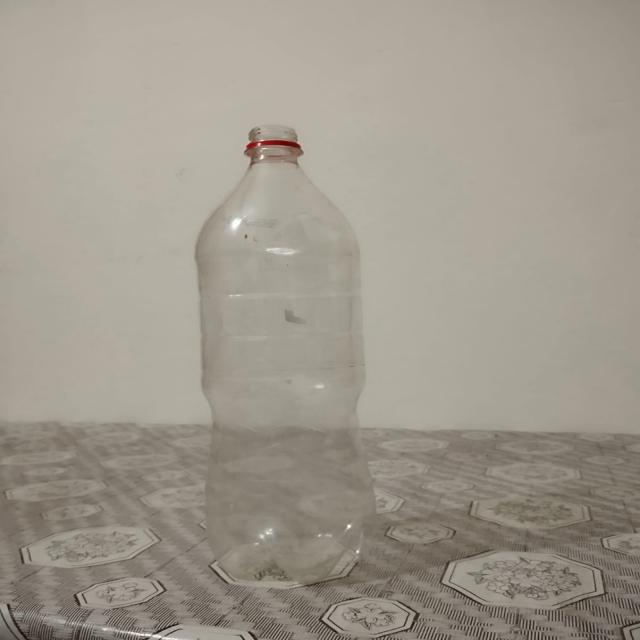bottle: (186, 121, 376, 588)
